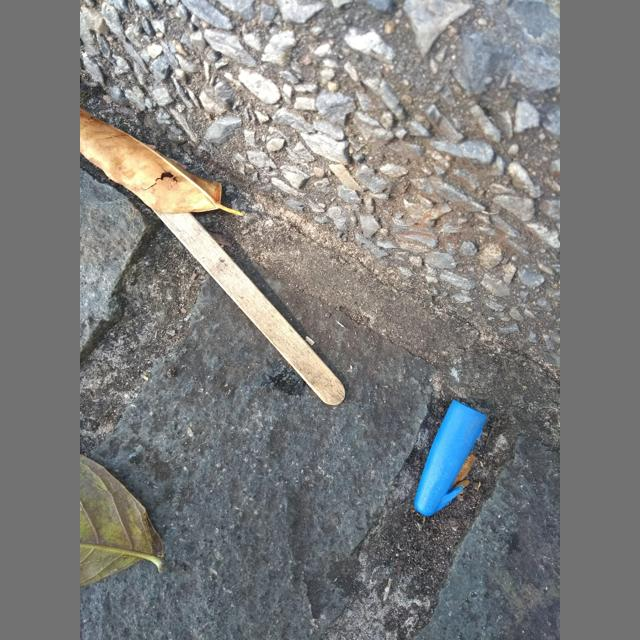litter: (154, 213, 345, 404), (414, 400, 488, 516)
